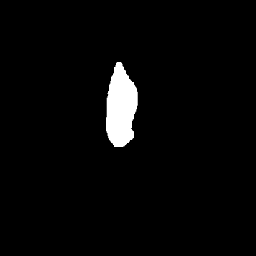mass: (107, 77, 138, 143)
